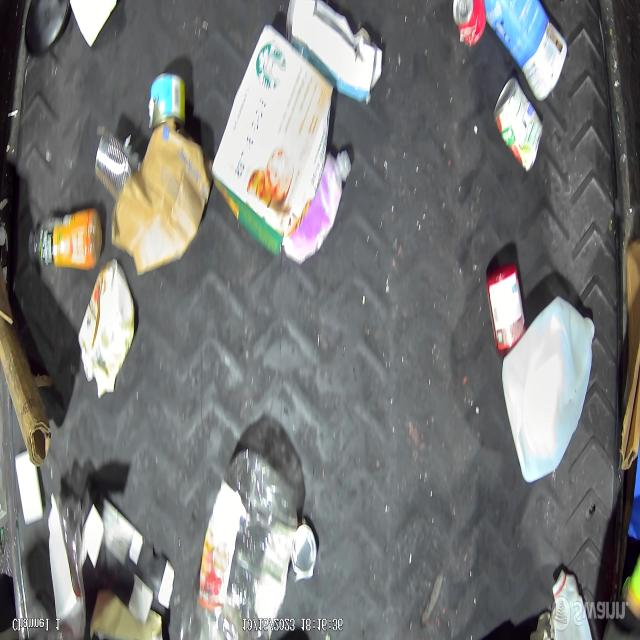can: (492, 78, 542, 172), (94, 132, 137, 194), (149, 74, 186, 128), (452, 0, 486, 48), (292, 522, 319, 582)
milk_jug: (500, 295, 596, 486)
plastic_bottle: (199, 450, 298, 640)
